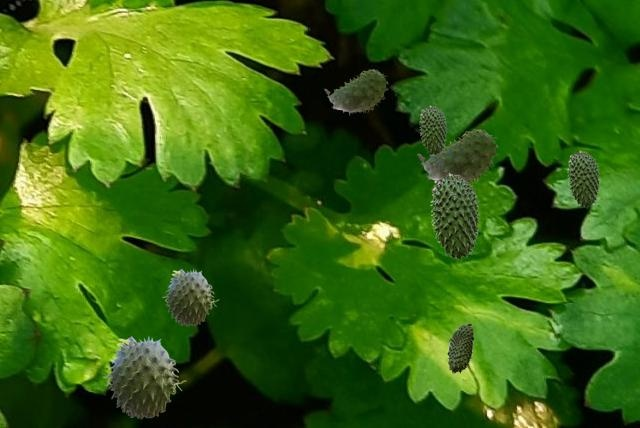guyabano: (103, 335, 185, 418), (417, 129, 497, 183), (430, 172, 479, 259), (162, 268, 218, 325), (324, 69, 387, 114), (567, 150, 599, 207), (419, 105, 446, 154), (447, 323, 473, 372)
